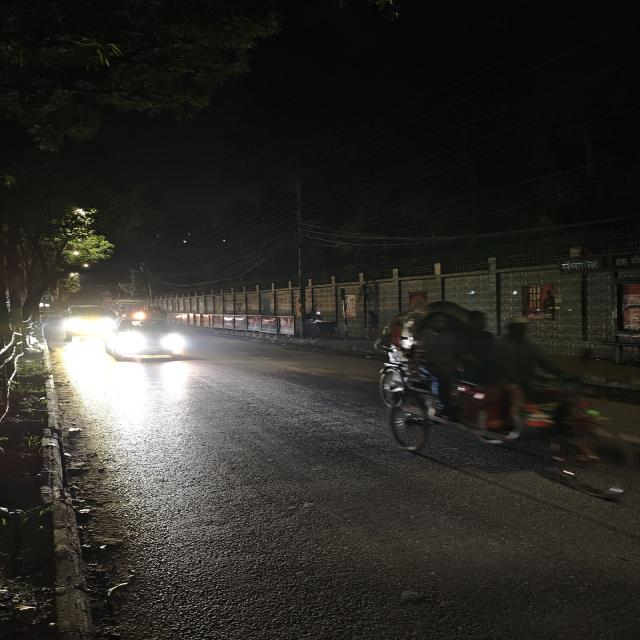bus: (115, 300, 149, 320)
car: (102, 316, 191, 366), (60, 304, 110, 342)
rickshaw: (370, 296, 640, 507)
